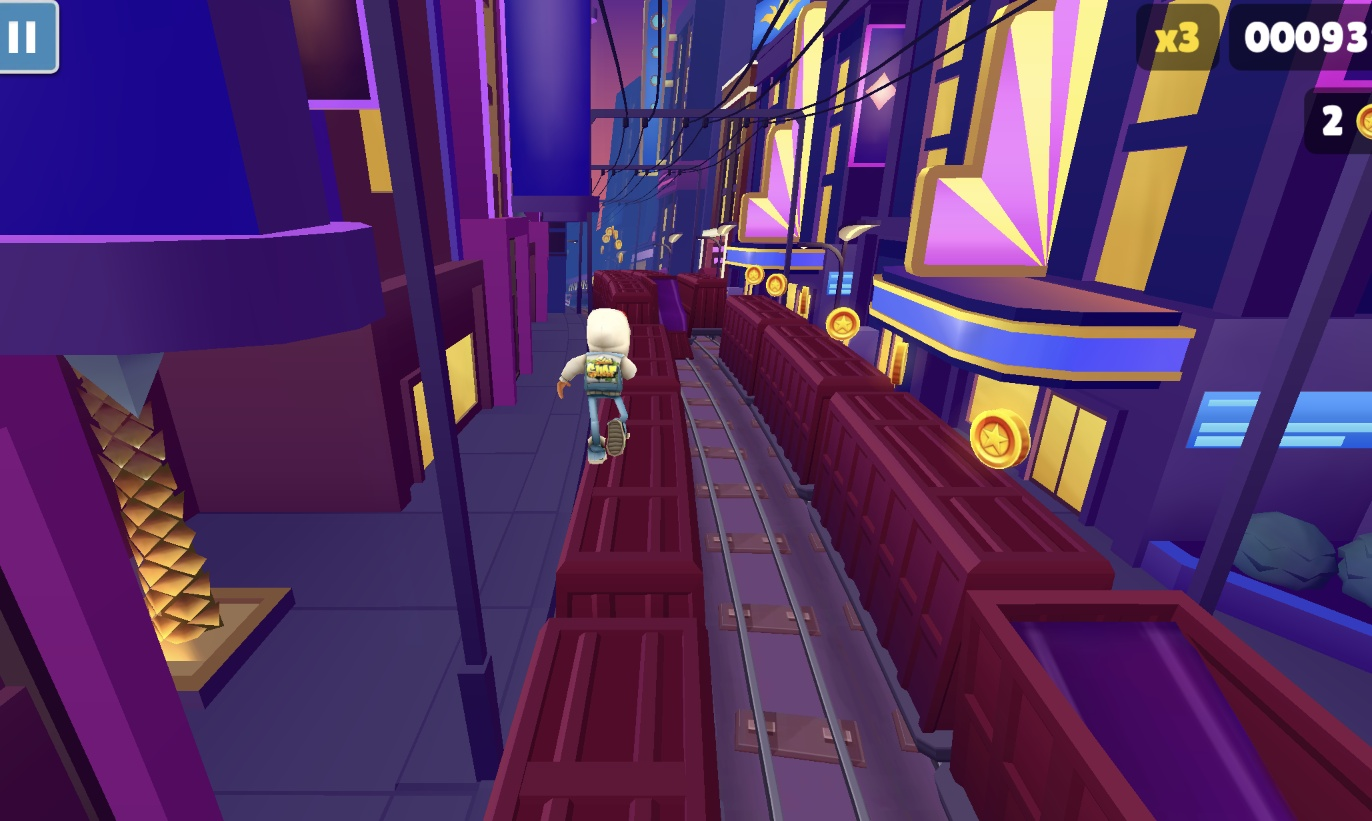train: (721, 297, 1371, 821), (484, 280, 717, 821), (617, 274, 724, 389), (682, 267, 759, 367)
